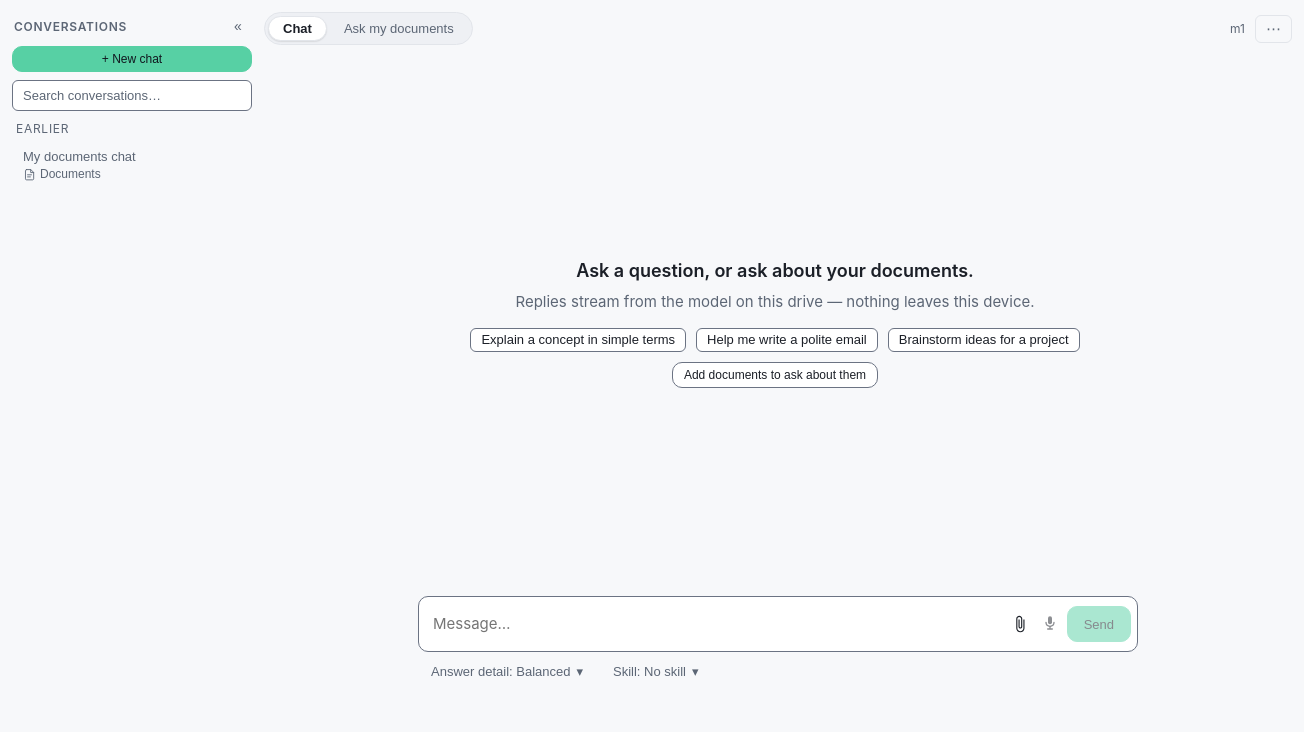
Test: ChatScreen — the #80 offer accept flow (#135) › a click re-runs via the regenerate path with the skill explicitly set, in the wire argument order
Click the text "My documents chat". click: (79, 156)
box: x1=23 y1=149 x2=136 y2=164
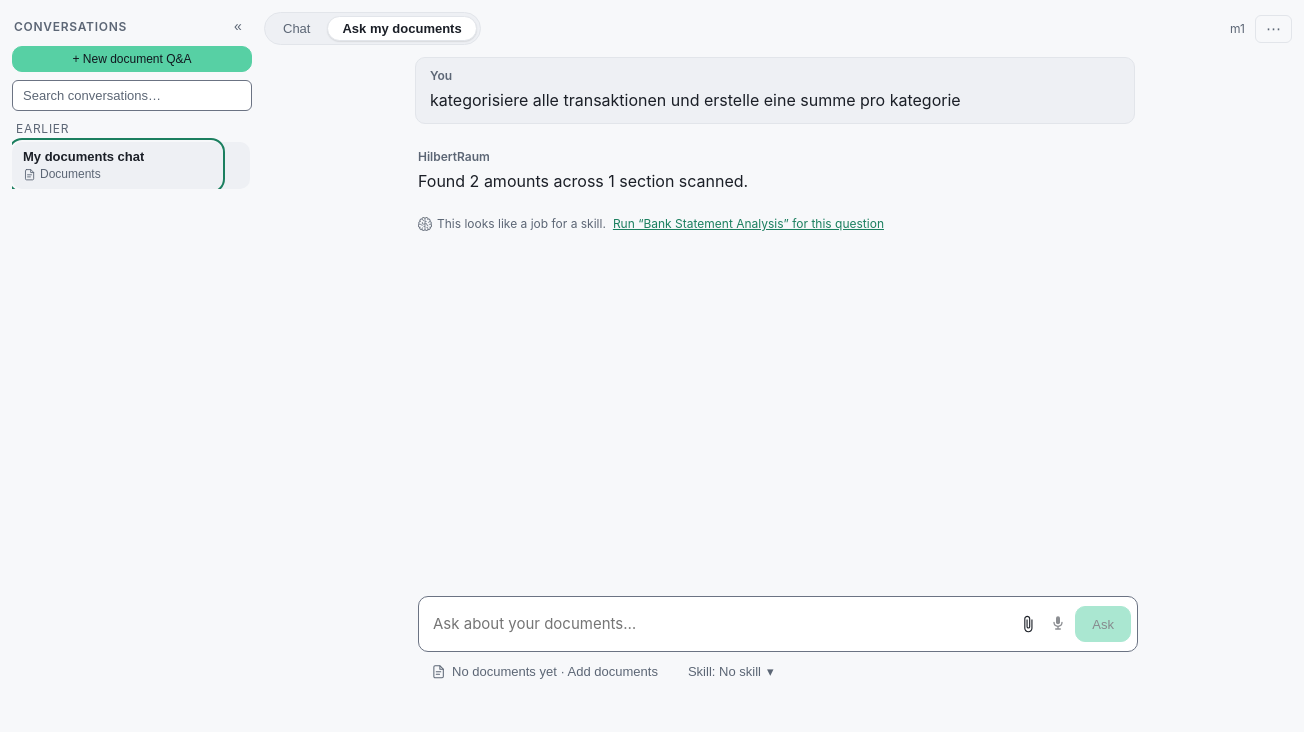
Expected: the text "Found 2 amounts across 1 section scanned." is shown, x1=418 y1=171 x2=748 y2=191
Click the button "Run “Bank Statement Analysis” for this question". click: (748, 224)
box: x1=613 y1=212 x2=884 y2=236
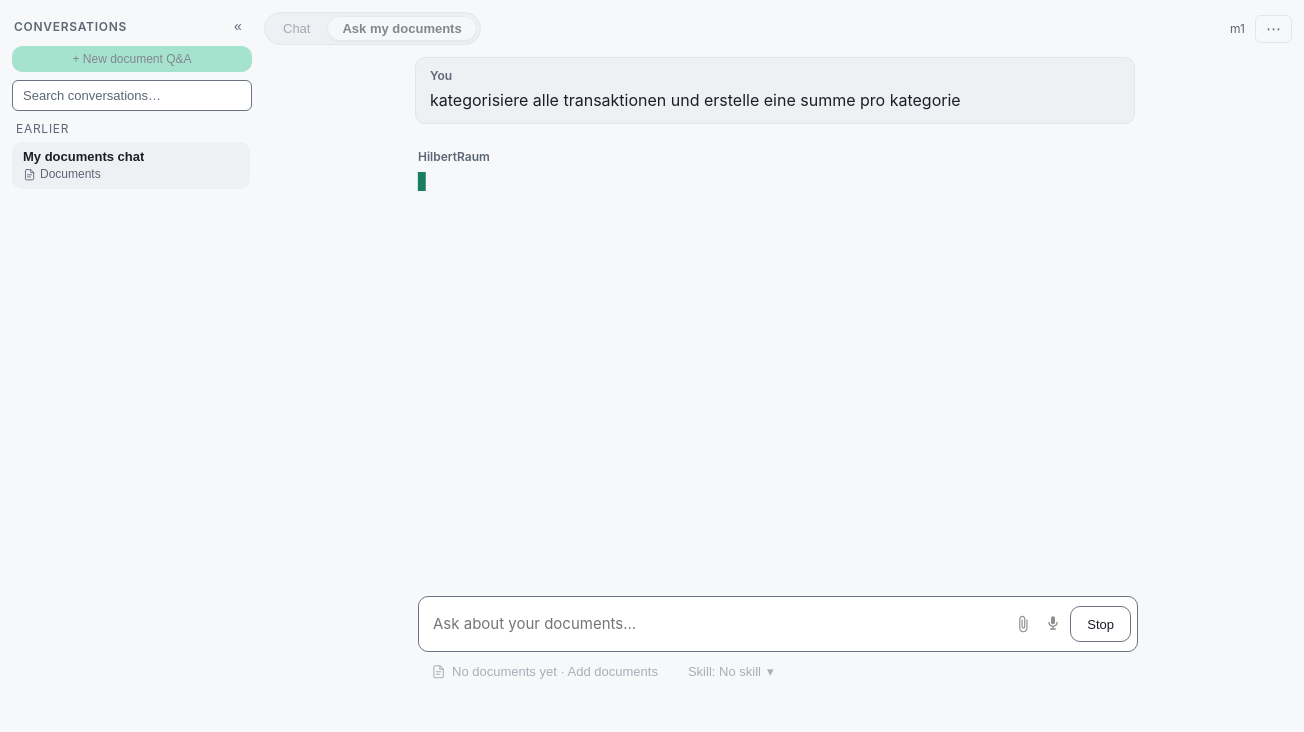
Expected: the text "Found 2 amounts across 1 section scanned." is gone
